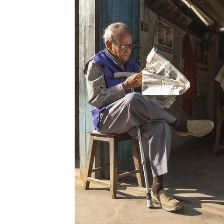news_paper: (133, 45, 192, 109)
